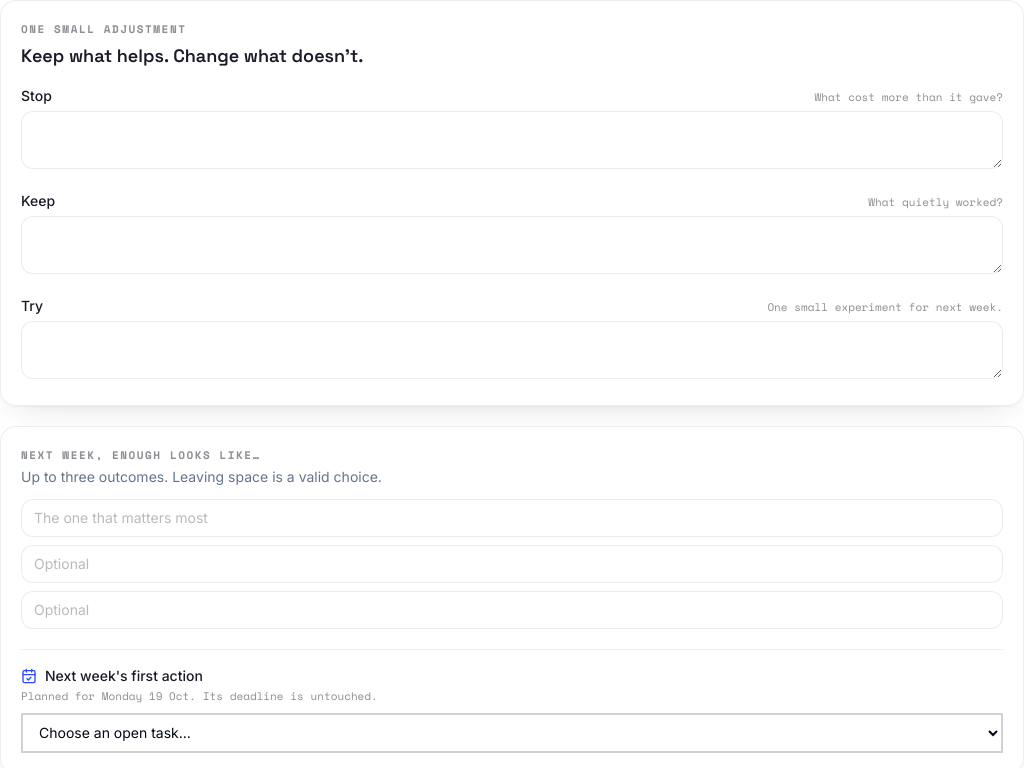
Scenario: WeeklyEditor › keeps three outcome lines, shows the save state, and saves the assembled patch
Expected: the field with test id "week-outcome-1" is shown, [21, 499, 1003, 537]
Type "Checking email first" into the text box with test id "week-stop".
click(512, 140); type("Checking email first")  # box [21, 110, 1003, 168]
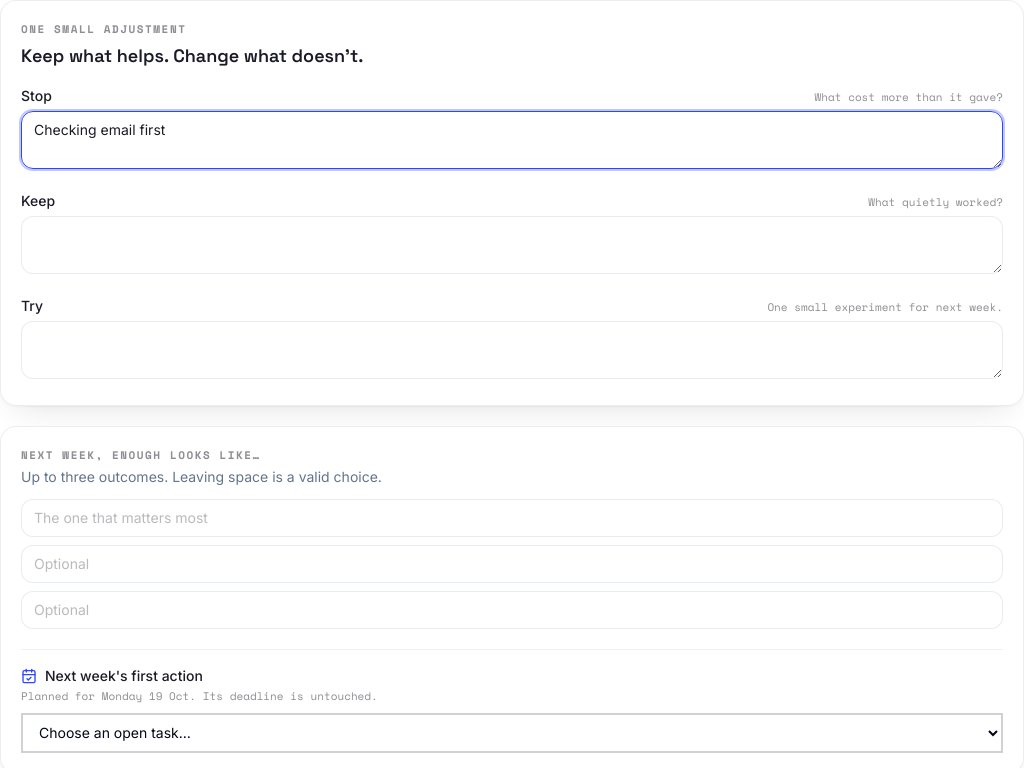
Type "Ship the planner" into the field with test id "week-outcome-1".
click(512, 518); type("Ship the planner")  # box [21, 499, 1003, 537]
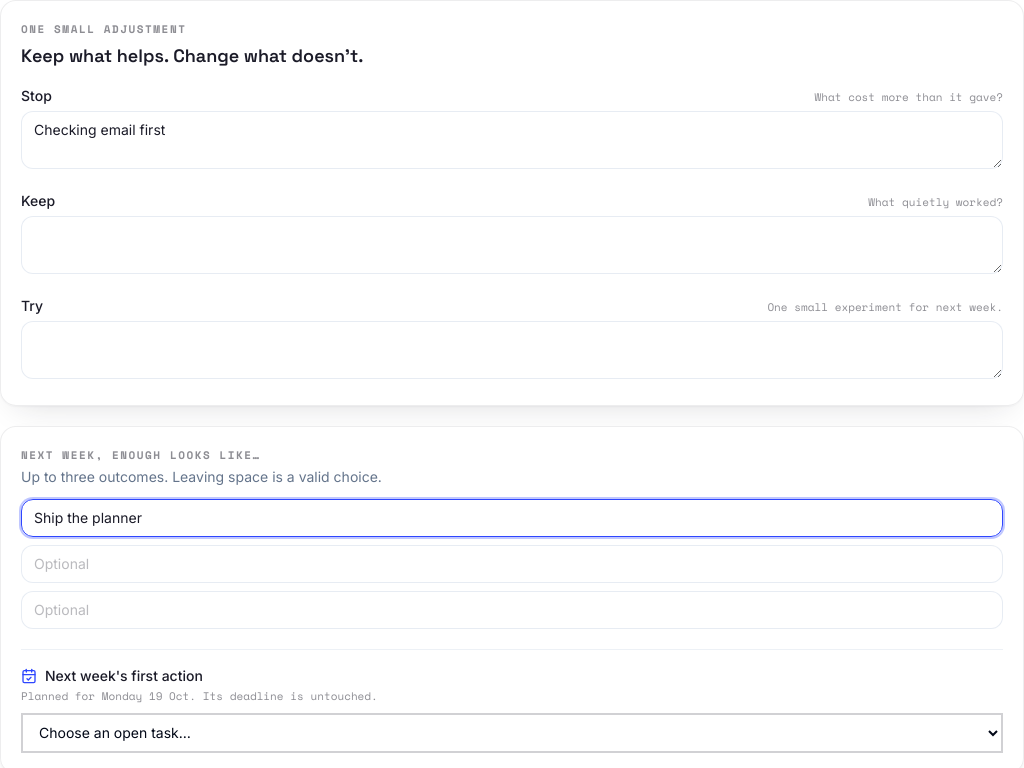
Select "Write the paper" in the dropdown with test id "week-next-action" at (512, 732), box [21, 712, 1003, 752]
(page scrolled)
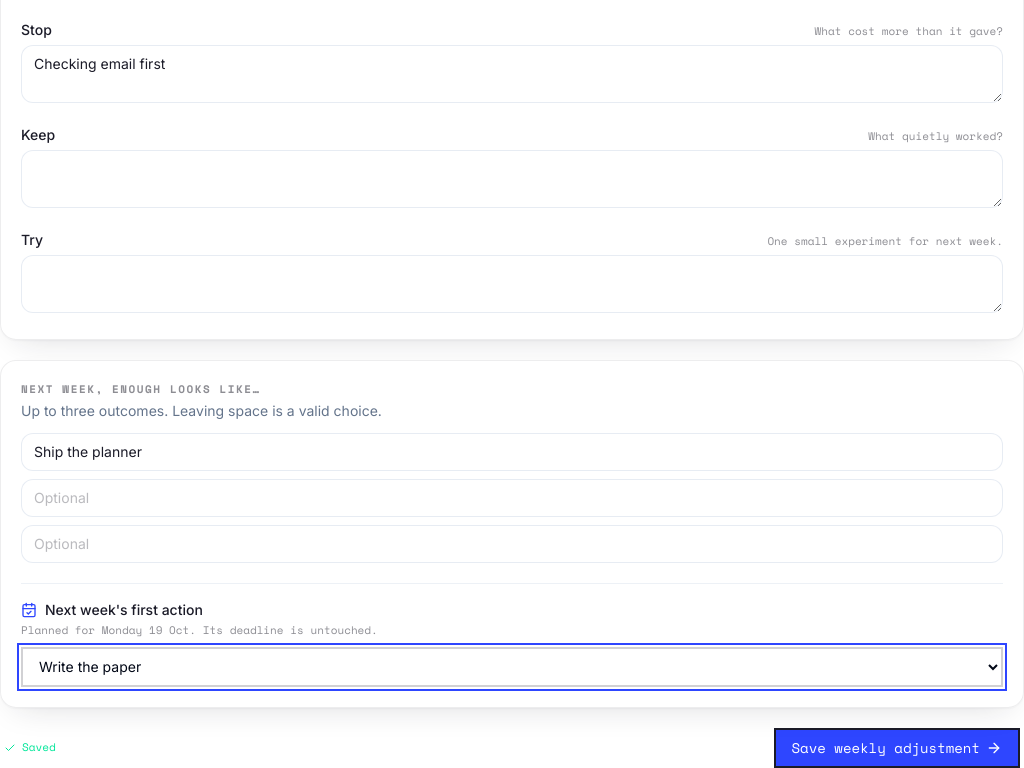
Now the element with test id "save-status" reads "Saved", box [22, 739, 56, 755]
